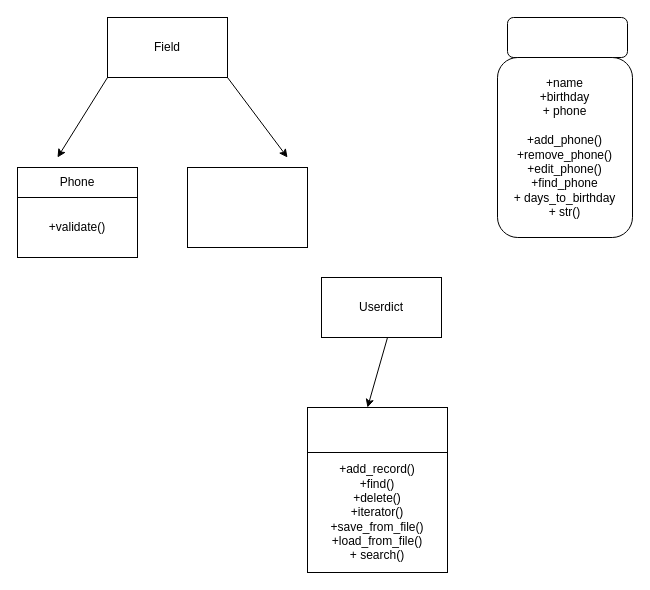
Some shapes in this 650 by 590 pixel diagram are drawn without their labels. Here are the shapes that lost their labels. From the top down, the centre of each, then its label:
At (567,37): "Record".
At (247,207): "Name".
At (377,429): "AddressBook".
